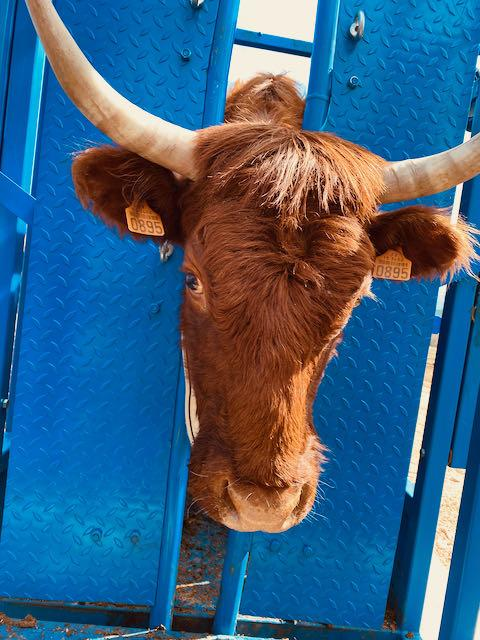muzzles: (205, 459, 316, 542)
